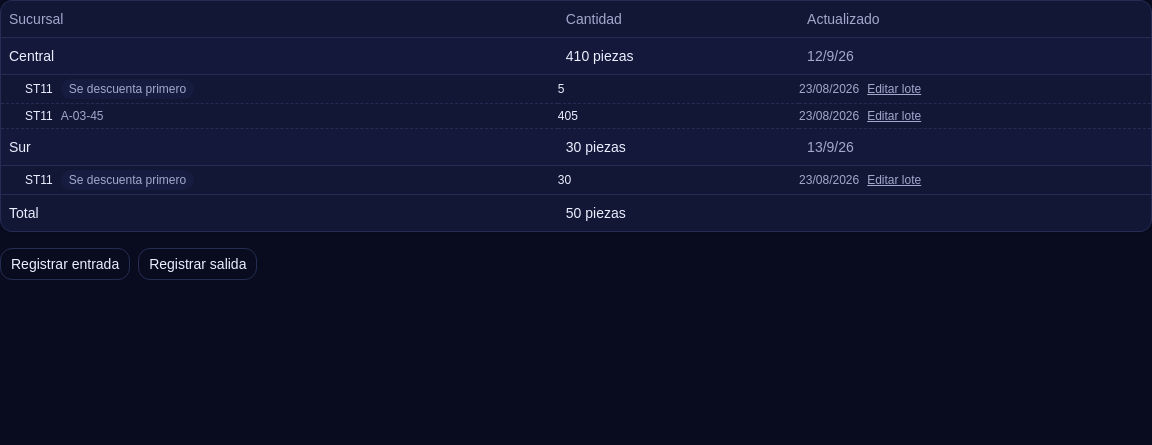
Test case: Editar un lote (F3-LOTS-04) › el mismo lote en varios renglones abre UN editor, bajo el renglón tocado
Check: the text "A-03-45" is shown, box [61,109,104,123]
// El PRIMERO de Central: el editor tiene que quedar entre él y el de A-03-45.
Click the 1st button "Editar lote" at (894, 89), box [867,81,921,97]
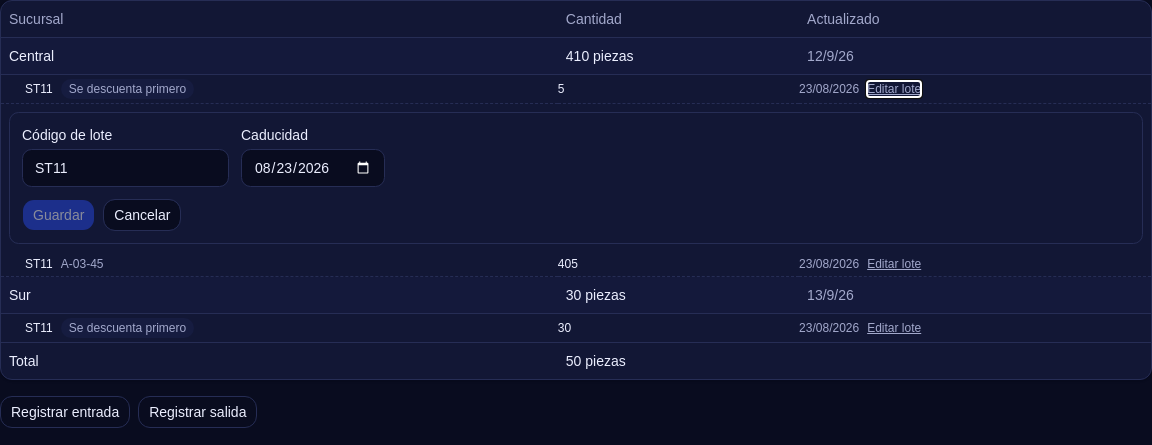
Check: the number of buttons "Guardar" is 1, box [22,199,95,231]
